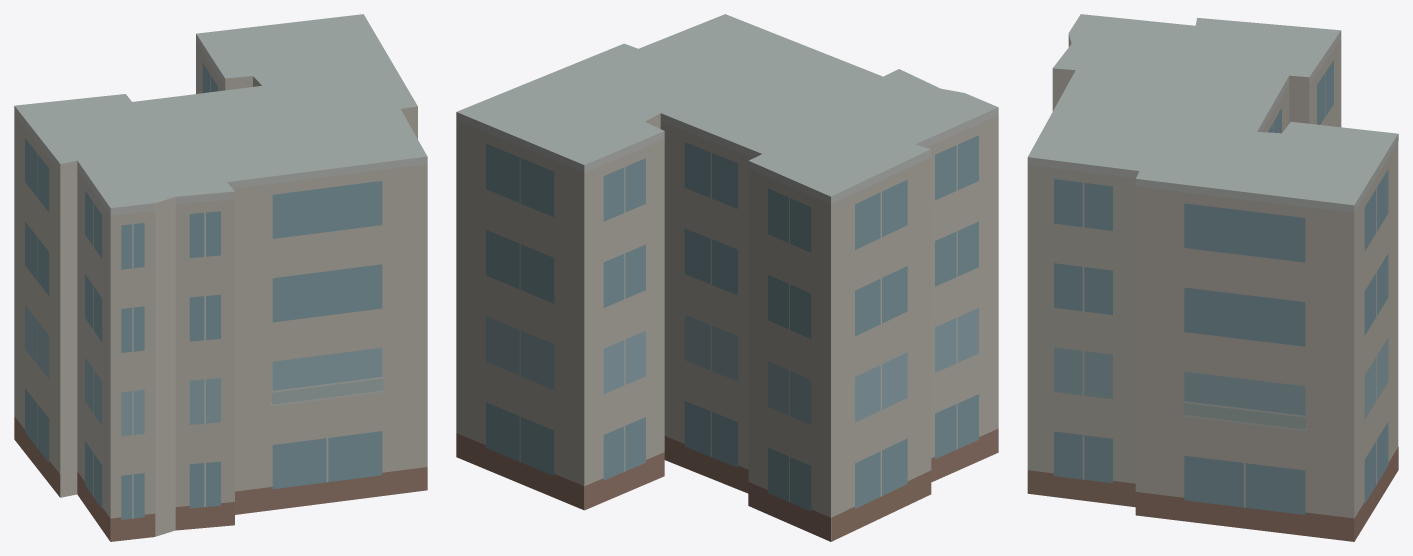
The model's file is survey-upis-32474750.glb.
3 views of the same model, side by side, from view 1: azimuth 30°, elevation 25°; view 2: azimuth 150°, elevation 25°; view 3: azimuth 270°, elevation 25° (orthographic). The views are drawn at different scales.
Visible parts, largest first — view 1: survey-upis-32474750.tmp; view 2: survey-upis-32474750.tmp; view 3: survey-upis-32474750.tmp.
Boxes of the visible parts, left/top/right/bottom form: survey-upis-32474750.tmp: left=14, top=14, right=427, bottom=541; survey-upis-32474750.tmp: left=456, top=14, right=998, bottom=541; survey-upis-32474750.tmp: left=1027, top=14, right=1398, bottom=541.
Bounding box in the file's own units: 13.05 × 10.7 × 10.69.
